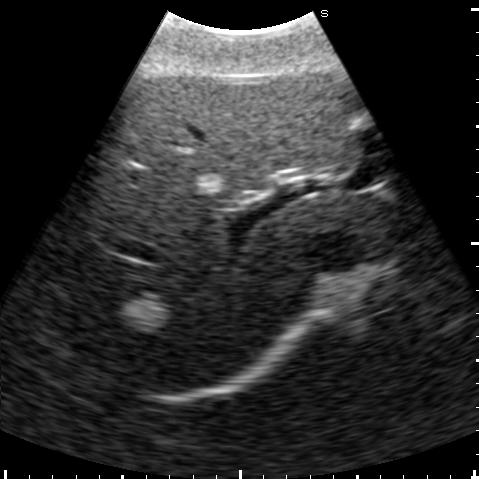IVC: (311, 229, 359, 269)
S1: (335, 195, 416, 240)
S4: (102, 68, 366, 202)
Tumor: (124, 298, 167, 330), (194, 174, 220, 194), (350, 112, 374, 130)
